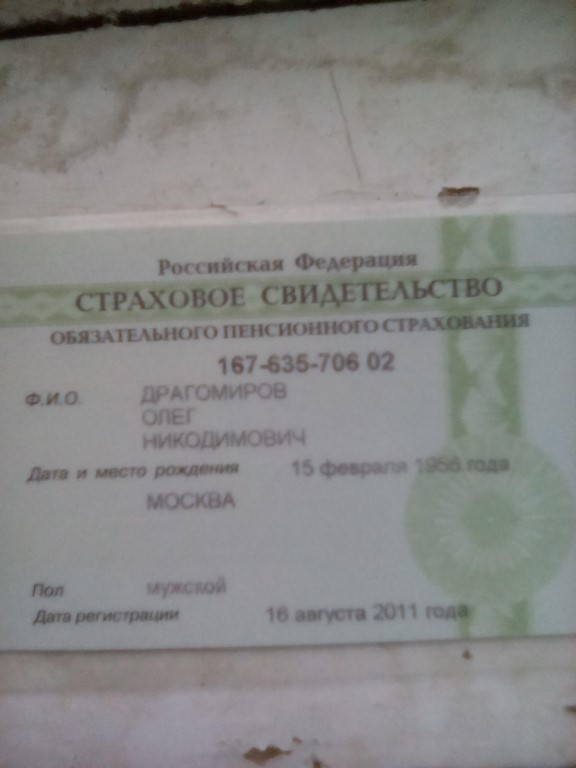text: (264, 595, 474, 626), (212, 344, 400, 374), (284, 454, 513, 478), (134, 426, 318, 454), (131, 380, 298, 402), (135, 488, 248, 512), (140, 572, 236, 598), (132, 403, 210, 425)
